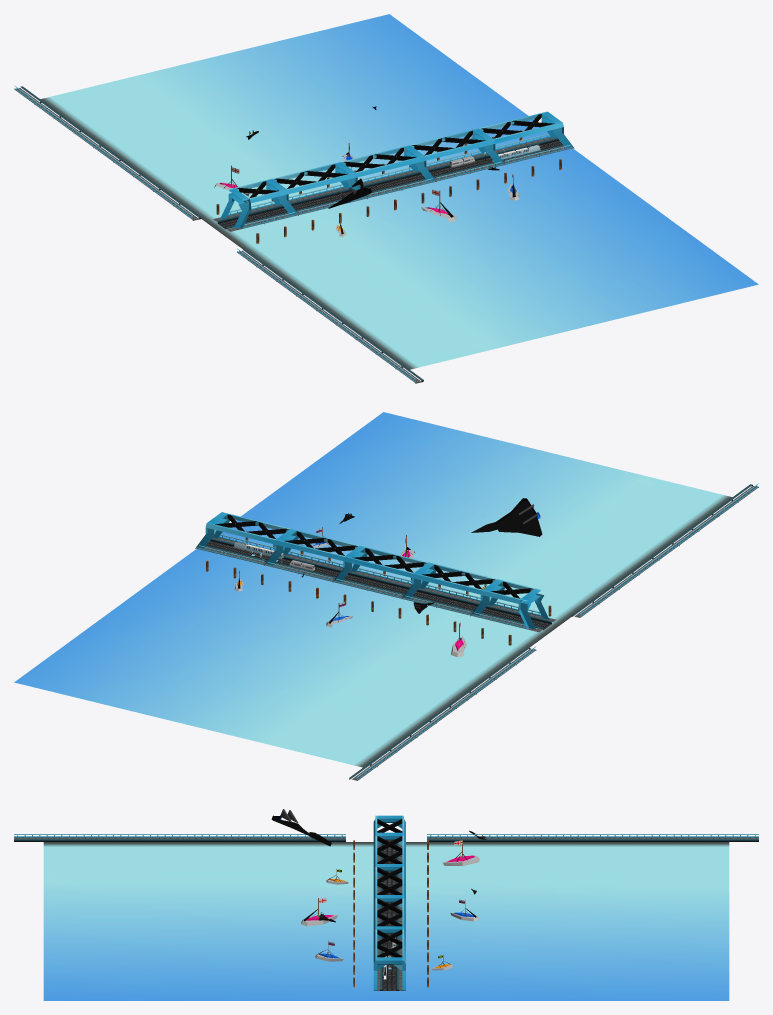
File: subwaysurferstest35.glb
3 views of the same model, one above another, from view 1: azimuth 30°, elevation 25°; view 2: azimuth 150°, elevation 25°; view 3: azimuth 270°, elevation 25° (orthographic). The views are drawn at different scales.
Parts seen in each view (by area): view 1: Water, Overpass.004, Overpass.002, Overpass.001, Overpass, Overpass.003; view 2: Water, Overpass.004, Overpass, Overpass.001, Overpass.002, Overpass.003, Plane1.001; view 3: Water, Overpass, Overpass.001, Overpass.002, Overpass.003, Overpass.004, Plane1.001, boat1.003.
Part boxes in pixels (x1,y1,x2,y2): Water: [40, 14, 758, 369]; Overpass.004: [220, 178, 298, 228]; Overpass.002: [341, 145, 435, 181]; Overpass.001: [410, 128, 504, 164]; Overpass: [479, 111, 573, 147]; Overpass.003: [273, 162, 367, 198]; Water: [14, 412, 732, 767]; Overpass.004: [471, 579, 549, 629]; Overpass: [196, 512, 290, 548]; Overpass.001: [264, 529, 359, 565]; Overpass.002: [333, 545, 427, 581]; Overpass.003: [402, 562, 496, 598]; Plane1.001: [471, 498, 542, 536]; Water: [43, 842, 729, 1000]; Overpass: [373, 929, 405, 990]; Overpass.001: [373, 898, 405, 939]; Overpass.002: [373, 867, 405, 907]; Overpass.003: [373, 836, 405, 876]; Overpass.004: [373, 815, 405, 845]; Plane1.001: [271, 809, 331, 846]; boat1.003: [443, 839, 479, 865].
Size of the model in its own units: 418 by 87.32 by 808.
Materials: 4 (4 with a texture image).
